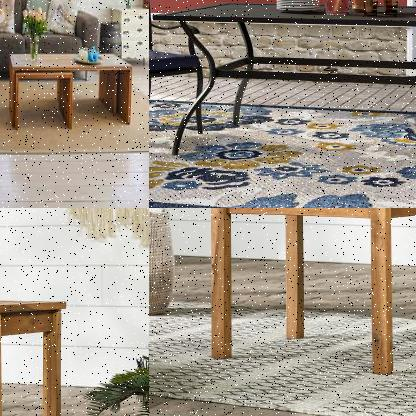table: (149, 0, 415, 176), (200, 208, 415, 379), (5, 50, 136, 138), (0, 293, 73, 415)
